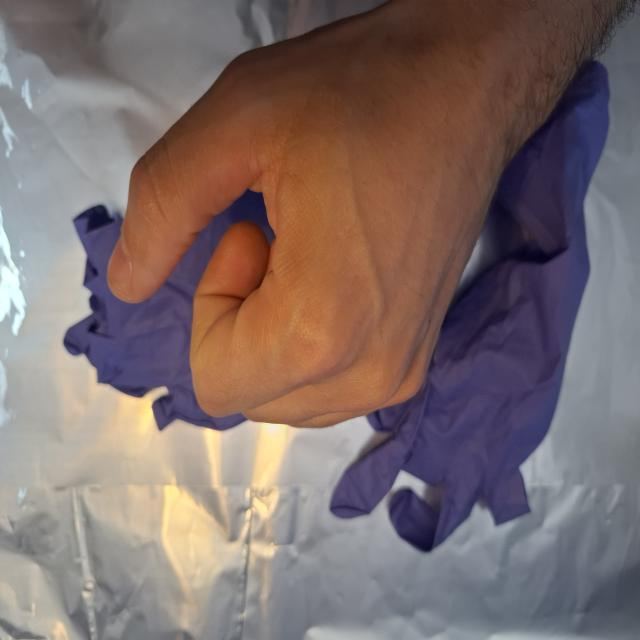glove_off: (104, 2, 514, 435)
